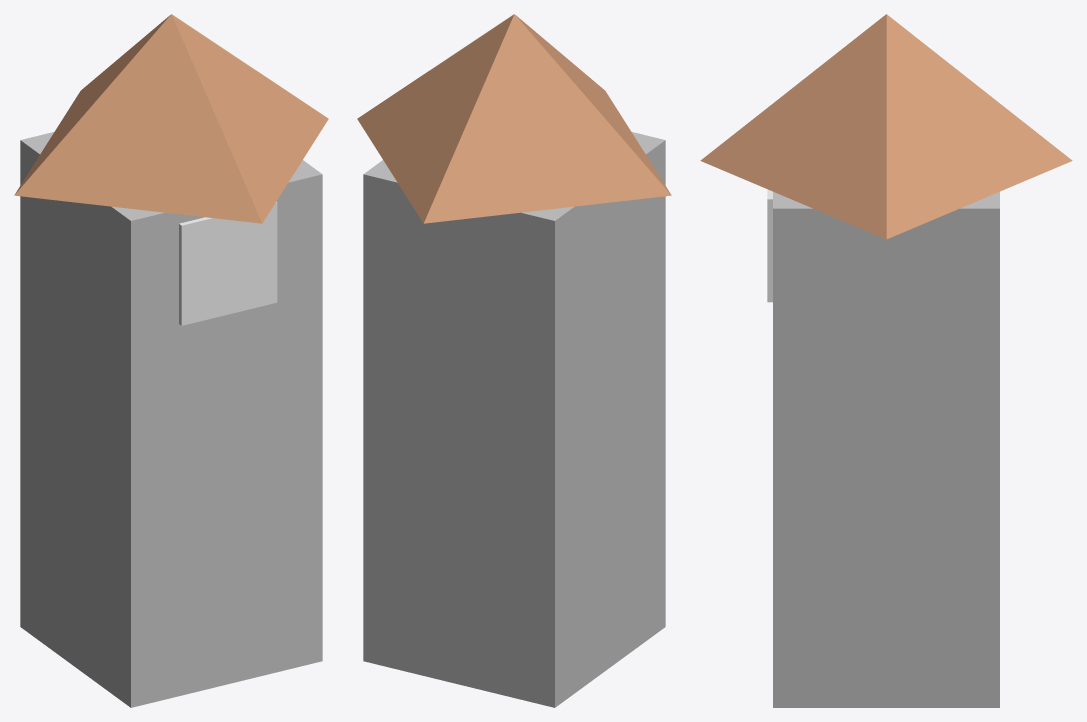
Rendered from menara_jam.glb.
The picture shows the model from 3 angles, left to right: view 1: azimuth 30°, elevation 25°; view 2: azimuth 150°, elevation 25°; view 3: azimuth 270°, elevation 25°; orthographic projection. The views are drawn at different scales.
Size of the model in its own units: 2.3 by 4.4 by 2.3.
